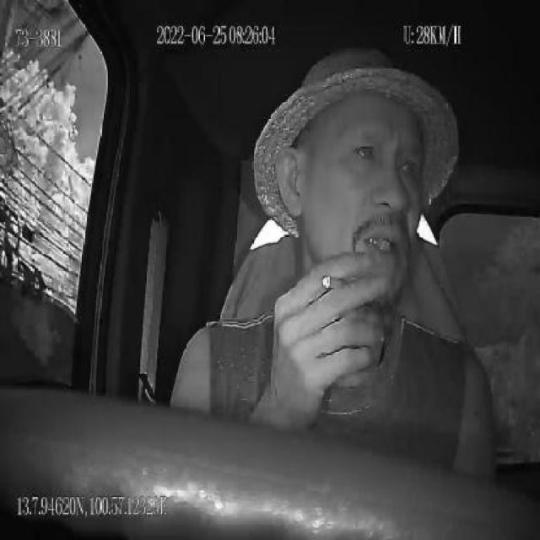smoking: (320, 270, 354, 291)
